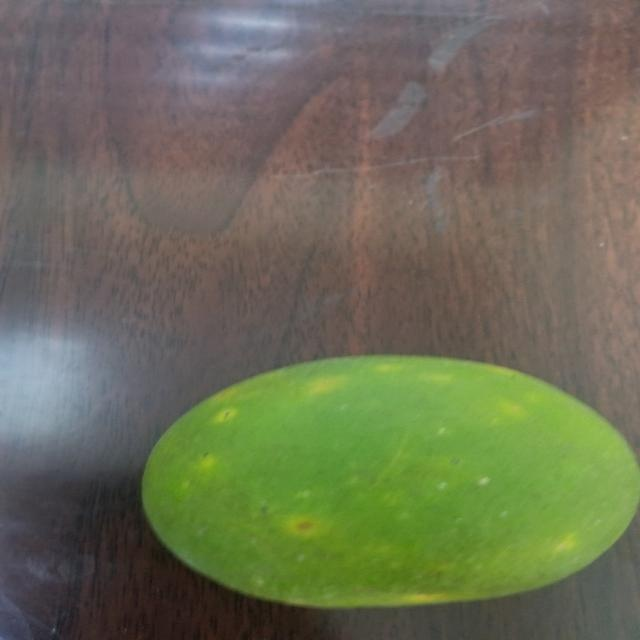agrume: (134, 349, 633, 603)
